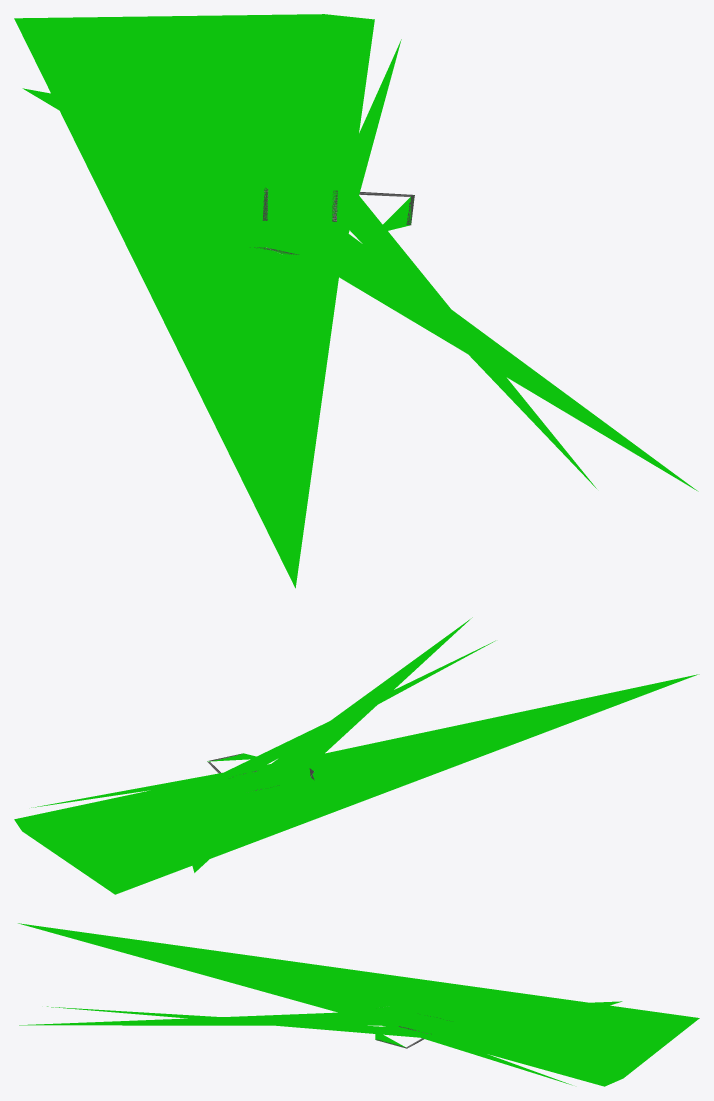
3 renders of one model, top to bottom at view 1: azimuth 30°, elevation 25°; view 2: azimuth 150°, elevation 25°; view 3: azimuth 270°, elevation 25°, orthographic. The views are drawn at different scales.
Size of the model in its own units: 153 by 0.201 by 271.
